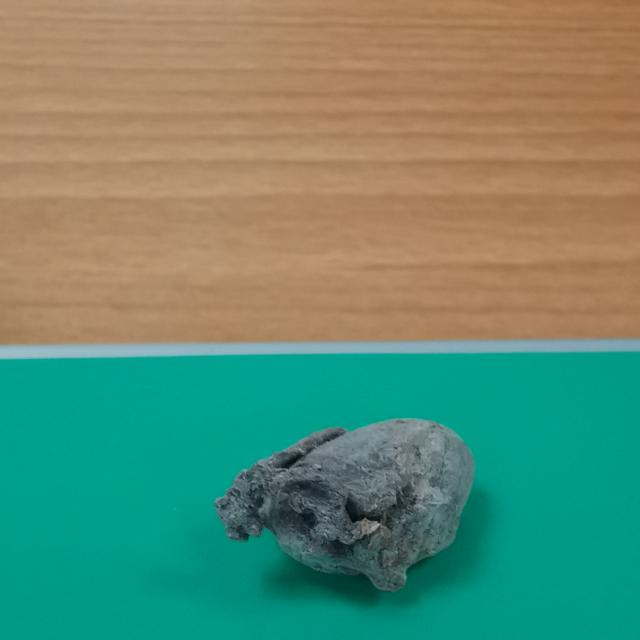Agglomerated_cocoabeans: (165, 411, 556, 611)
